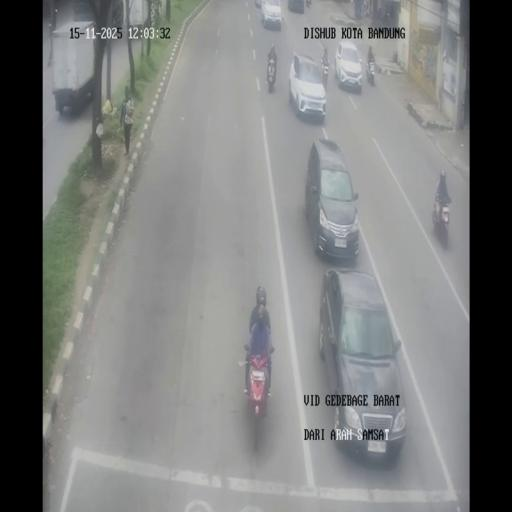3: (51, 22, 97, 114), (122, 0, 150, 35)
car: (320, 269, 404, 461), (305, 138, 359, 261), (289, 51, 326, 123), (334, 40, 362, 93), (261, 0, 281, 30), (287, 0, 304, 13), (255, 0, 263, 8)
truck: (241, 343, 274, 442), (431, 185, 450, 249), (366, 50, 376, 86), (320, 54, 330, 90), (266, 56, 276, 90), (377, 4, 386, 22), (362, 0, 370, 18), (384, 9, 392, 25), (306, 0, 312, 8)
